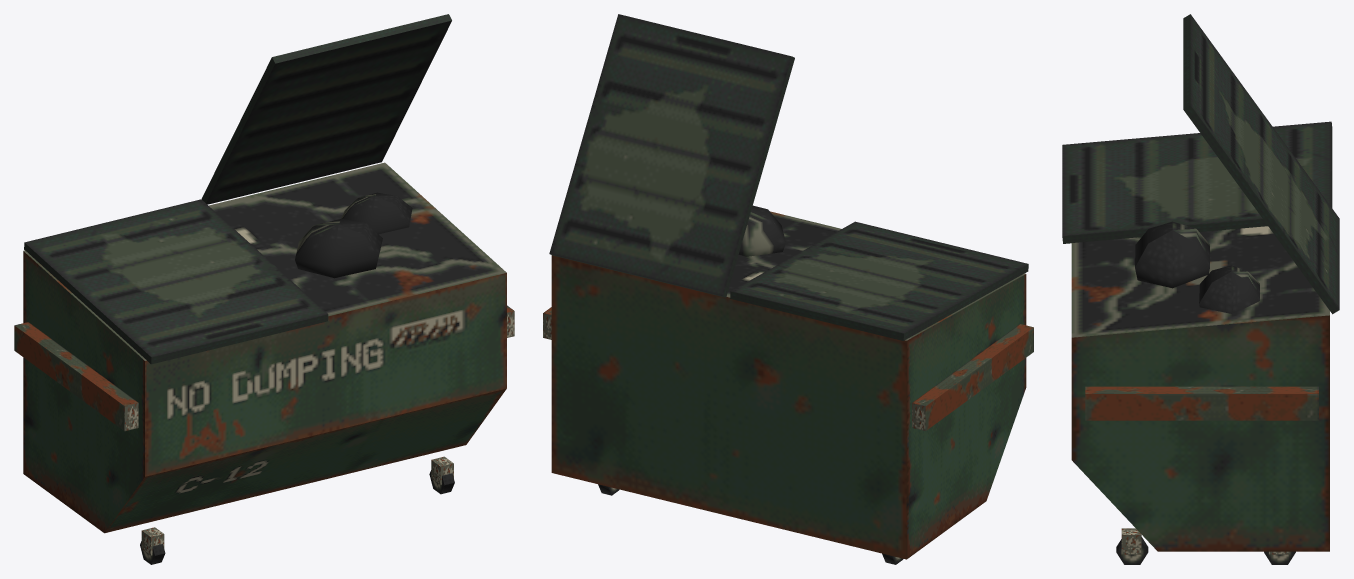
File: dumpster.obj
The picture shows the model from 3 angles, left to right: view 1: azimuth 30°, elevation 25°; view 2: azimuth 150°, elevation 25°; view 3: azimuth 270°, elevation 25°; orthographic projection. The views are drawn at different scales.
Parts seen in each view (by area): view 1: dumpster; view 2: dumpster; view 3: dumpster.
Boxes of the visible parts, x1,y1,x2,y2 form: dumpster: (14,14,514,564); dumpster: (543,14,1033,564); dumpster: (1062,14,1339,564).
Size of the model in its own units: 1.94 by 2.13 by 1.13.
1 material, 1 textured.
